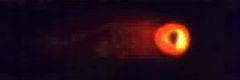keyhole: (168, 29, 182, 46)
